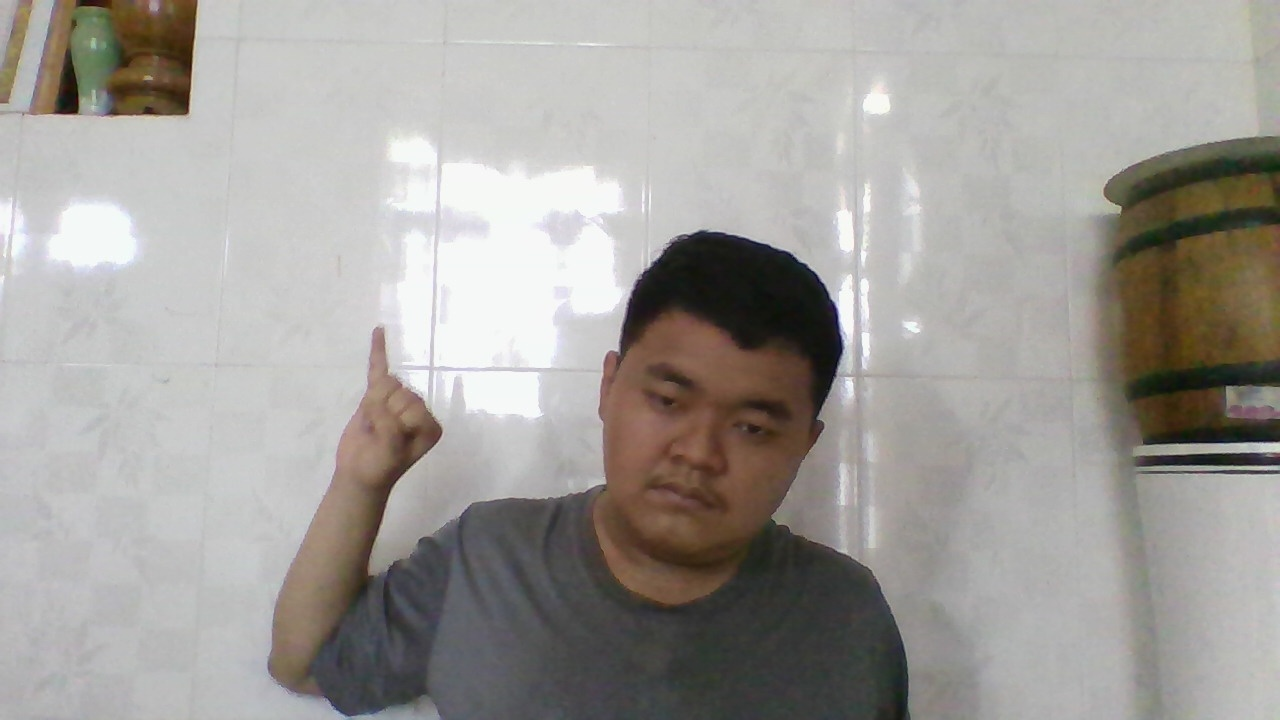I: (333, 314, 442, 490)
